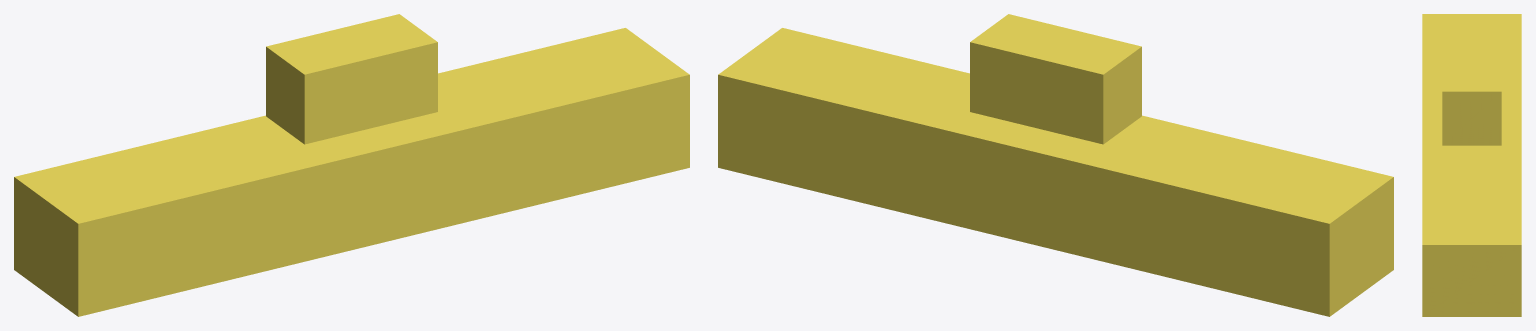
The model's file is 04_level.glb.
3 renders of one model, left to right at view 1: azimuth 30°, elevation 25°; view 2: azimuth 150°, elevation 25°; view 3: azimuth 270°, elevation 25°, orthographic. The views are drawn at different scales.
Visible parts, largest first — view 1: handwerk_04_level; view 2: handwerk_04_level; view 3: handwerk_04_level.
Part boxes in pixels (x1,y1,x2,y2): handwerk_04_level: [14, 14, 689, 316]; handwerk_04_level: [718, 14, 1393, 316]; handwerk_04_level: [1422, 14, 1521, 316].
Size of the model in its own units: 0.55 by 0.15 by 0.1.
